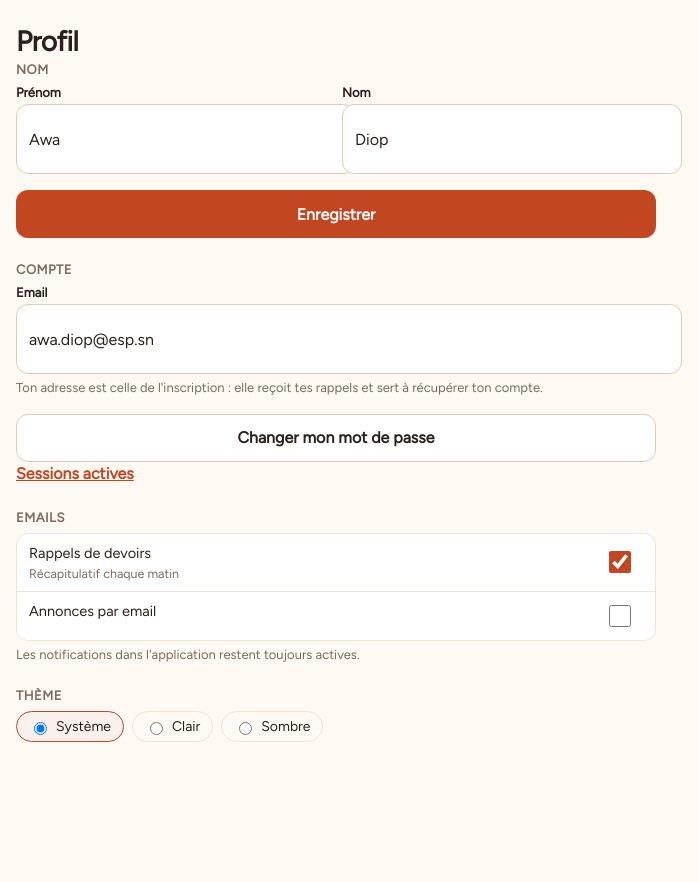
Test: profil (P10, M14) › 403 REAUTH_REQUIRED : la ressaisie est expliquée
The width and height of the screenshot is (699, 882).
Check: the heading "Profil" is shown, box [16,24,78,58]
Click the button "Changer mon mot de passe": (336, 438) [16,414,656,462]
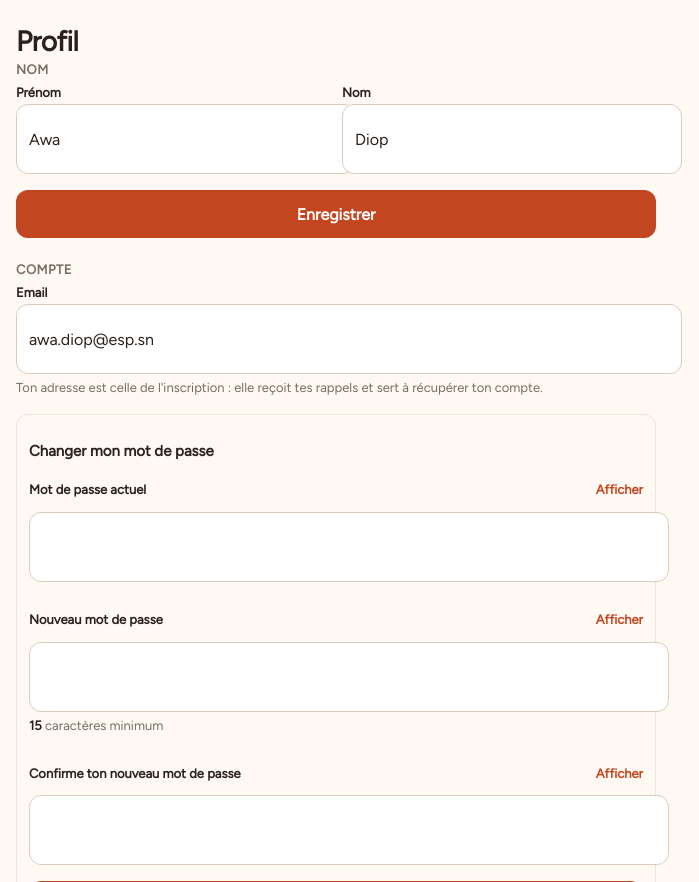
In the password field labelled "Mot de passe actuel": (349, 546) [29,512,669,582], type "ancien mot de passe actuel"
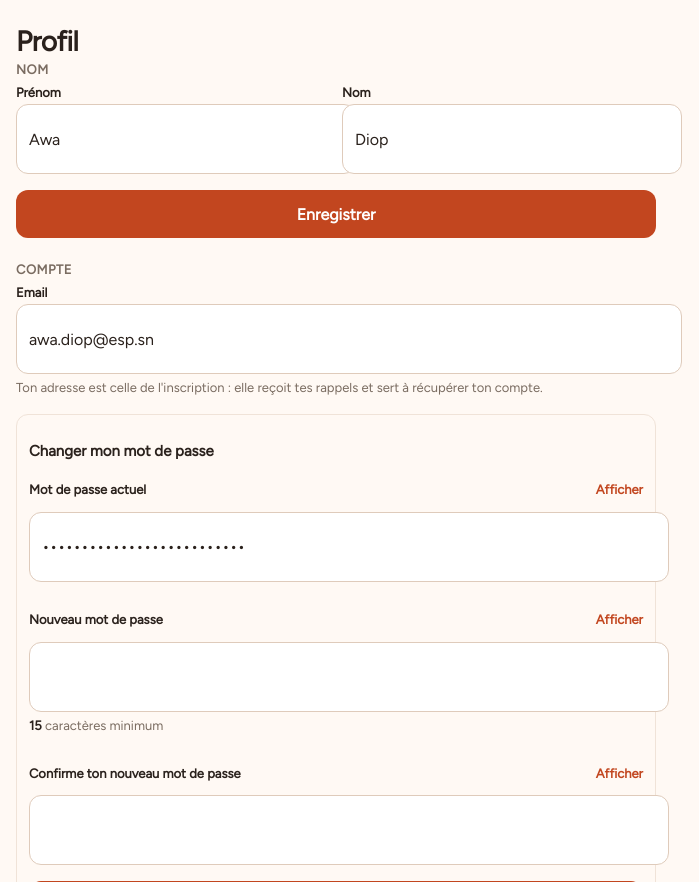
In the password field labelled "Nouveau mot de passe": (349, 676) [29,642,669,712], type "une phrase de passe neuve"
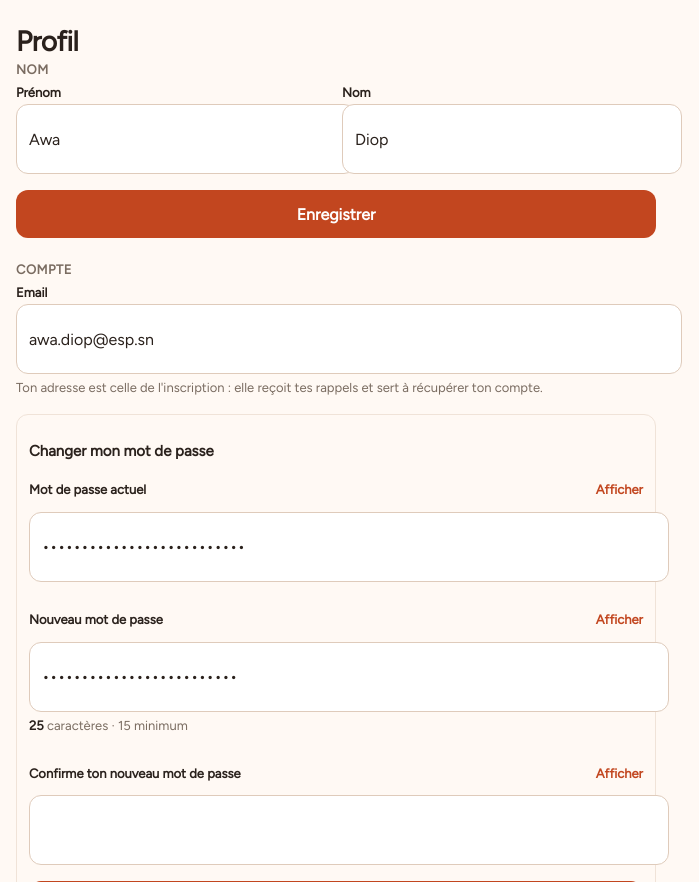
In the password field labelled "Confirme ton nouveau mot de passe": (349, 830) [29,795,669,865], type "une phrase de passe neuve"
(page scrolled)
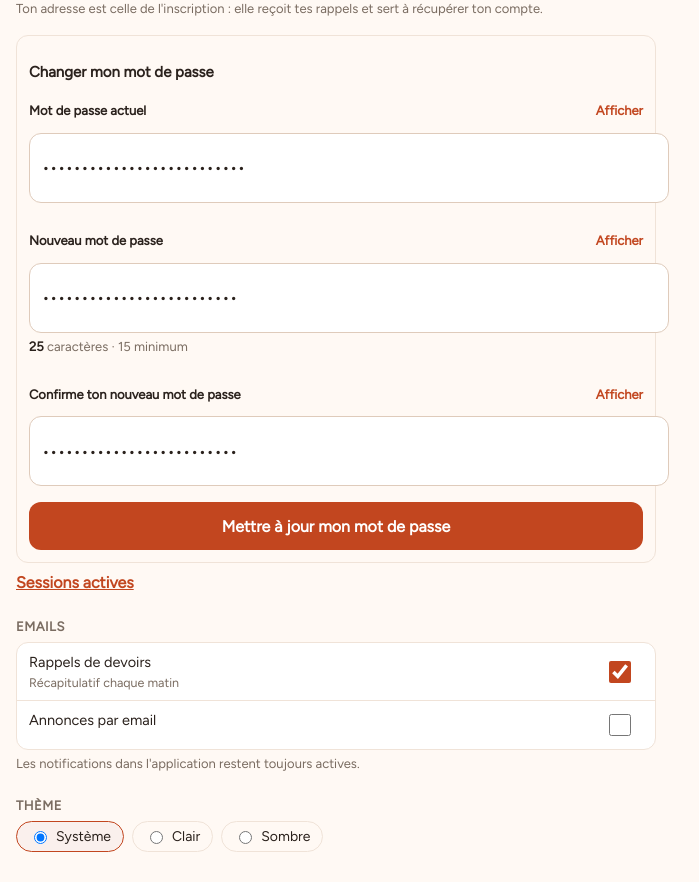
Click the button "Mettre à jour mon mot de passe": (336, 526) [29,502,643,550]
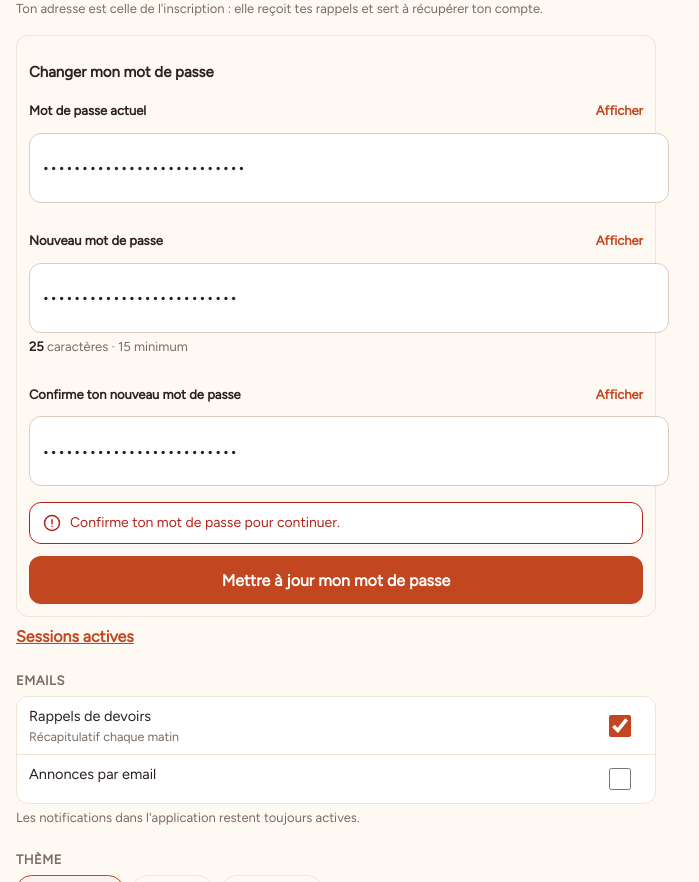
Check: the message reads "Confirme ton mot de passe pour continuer.", box [70,514,340,531]
